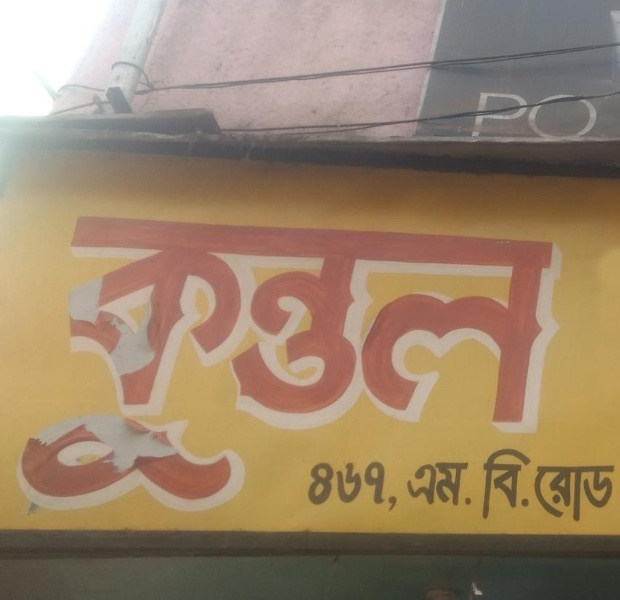text: (17, 191, 32, 526), (33, 191, 48, 526), (49, 191, 64, 526), (65, 191, 80, 526), (81, 191, 96, 526), (97, 191, 112, 526), (113, 191, 128, 526), (129, 191, 144, 526), (145, 191, 160, 526), (161, 191, 176, 526), (177, 191, 192, 526), (193, 191, 208, 526), (209, 191, 224, 526), (225, 191, 240, 526), (241, 191, 256, 526), (257, 191, 272, 526), (273, 191, 288, 526), (289, 191, 304, 526), (305, 191, 320, 526), (321, 191, 336, 526), (337, 191, 352, 526), (353, 191, 368, 526), (369, 191, 384, 526), (385, 191, 400, 526), (401, 191, 416, 526), (417, 191, 432, 526), (433, 191, 448, 526), (449, 191, 464, 526), (465, 191, 480, 526), (481, 191, 496, 526), (497, 191, 512, 526), (513, 191, 528, 526), (529, 191, 544, 526), (545, 191, 560, 526), (561, 191, 576, 526), (577, 191, 591, 526), (10, 191, 16, 526), (481, 449, 496, 526), (497, 449, 512, 526), (513, 449, 528, 526), (481, 80, 496, 148), (497, 80, 512, 148), (513, 80, 528, 148), (529, 80, 544, 148), (545, 80, 560, 148), (561, 80, 576, 148), (577, 80, 592, 148), (593, 80, 608, 148), (545, 459, 560, 524), (561, 459, 576, 524), (577, 459, 592, 524), (593, 459, 608, 524), (321, 452, 336, 514), (337, 452, 352, 514), (353, 452, 368, 514), (369, 452, 384, 514), (306, 452, 320, 514), (531, 459, 544, 524), (417, 456, 432, 512), (433, 456, 448, 512), (449, 456, 464, 512), (385, 452, 398, 514), (404, 456, 416, 512), (473, 80, 480, 148), (609, 459, 616, 524), (465, 456, 473, 512), (529, 449, 534, 526), (609, 80, 614, 148)
